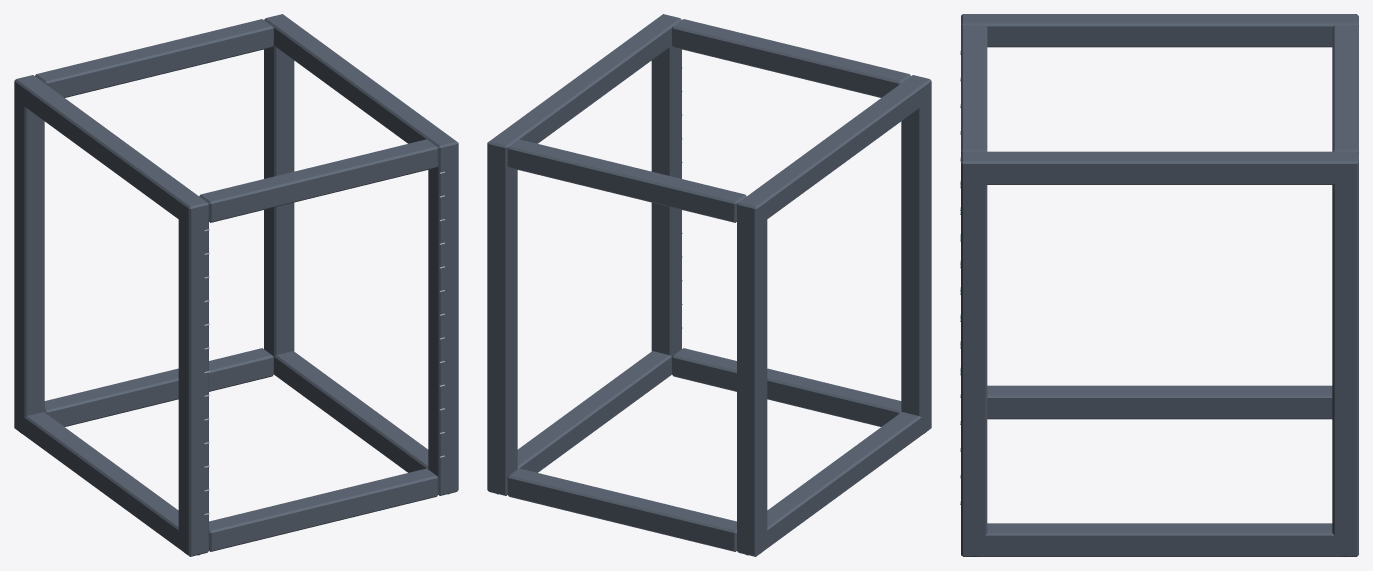
Rendered from rack_12u_open.glb.
3 views of the same model, side by side, from view 1: azimuth 30°, elevation 25°; view 2: azimuth 150°, elevation 25°; view 3: azimuth 270°, elevation 25° (orthographic). The views are drawn at different scales.
Visible parts, largest first — view 1: post_fl, post_fr, post_rl, post_rr, top_cross_f, base_cross_f, top_cross_r, top_side_l, top_side_r, base_side_l, base_cross_r, base_side_r; view 2: post_rl, post_rr, post_fl, post_fr, top_cross_r, base_cross_r, top_cross_f, top_side_l, base_side_l, top_side_r, base_cross_f, base_side_r; view 3: base_side_r, top_side_r, top_side_l, base_side_l, post_rr, post_fr, top_cross_f, top_cross_r.
Boxes of the visible parts, box(x1,y1,x2,y2) form: post_fl: box(178, 195, 208, 552); post_fr: box(428, 138, 458, 495); post_rl: box(14, 81, 44, 433); post_rr: box(264, 18, 294, 356); top_cross_f: box(199, 139, 438, 222); base_cross_f: box(209, 468, 438, 551); top_cross_r: box(35, 19, 273, 97); top_side_l: box(14, 75, 208, 226); top_side_r: box(264, 14, 458, 165); base_side_l: box(14, 410, 208, 556); base_cross_r: box(44, 348, 273, 426); base_side_r: box(274, 351, 458, 495); post_rl: box(737, 198, 767, 552); post_rr: box(487, 137, 517, 476); post_fl: box(901, 81, 931, 431); post_fr: box(651, 19, 681, 356); top_cross_r: box(507, 139, 746, 222); base_cross_r: box(507, 468, 736, 551); top_cross_f: box(672, 19, 910, 97); top_side_l: box(737, 75, 931, 226); base_side_l: box(737, 411, 931, 556); top_side_r: box(487, 14, 681, 165); base_cross_f: box(672, 348, 901, 426); base_side_r: box(487, 351, 671, 495); base_side_r: box(961, 523, 1358, 556); top_side_r: box(961, 151, 1358, 184); top_side_l: box(961, 14, 1358, 47); base_side_l: box(987, 385, 1332, 419); post_rr: box(1332, 151, 1358, 556); post_fr: box(961, 151, 987, 556); top_cross_f: box(961, 25, 987, 152); top_cross_r: box(1332, 25, 1358, 152).
Bounding box in the file's own units: 0.5309 × 0.6584 × 0.6012.
